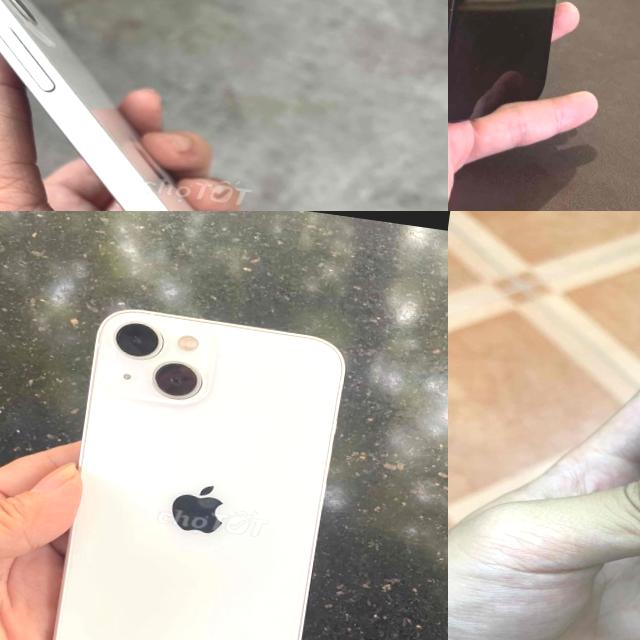gen_12_13: (44, 298, 359, 640), (0, 0, 408, 211), (448, 0, 598, 139)
